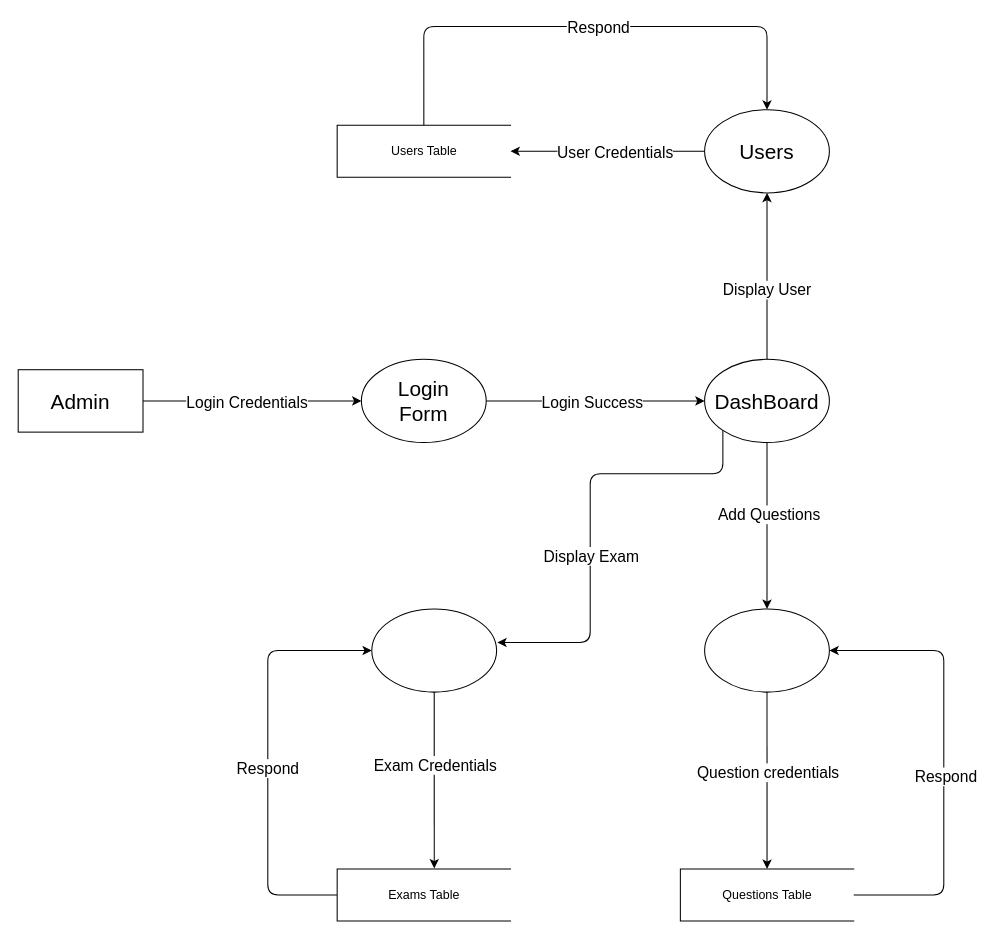
This 994x939 diagram has some shape labels left out. Each missing label, with the box of its shape:
Add Question Form: (704, 608, 829, 692)
Exams: (371, 608, 497, 692)
